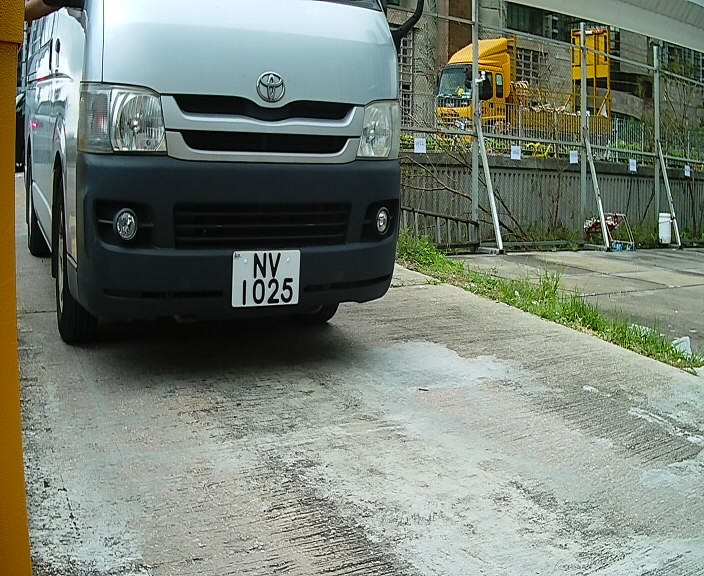Car: (37, 7, 408, 379)
License Plate: (230, 246, 309, 320)
